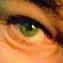eye: (20, 22, 36, 37)
